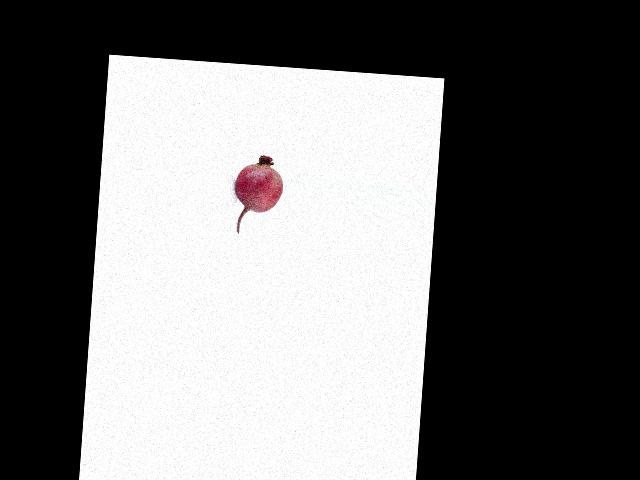beet: (231, 154, 284, 236)
